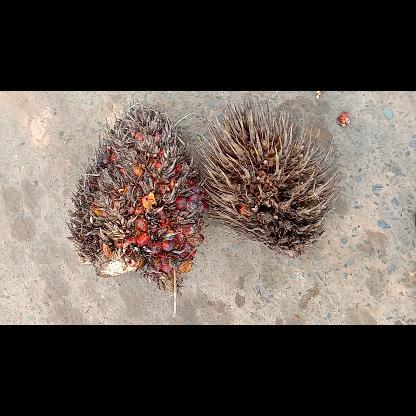Janjang kosong: (194, 99, 340, 257)
Terlalu masak: (67, 99, 207, 317)
